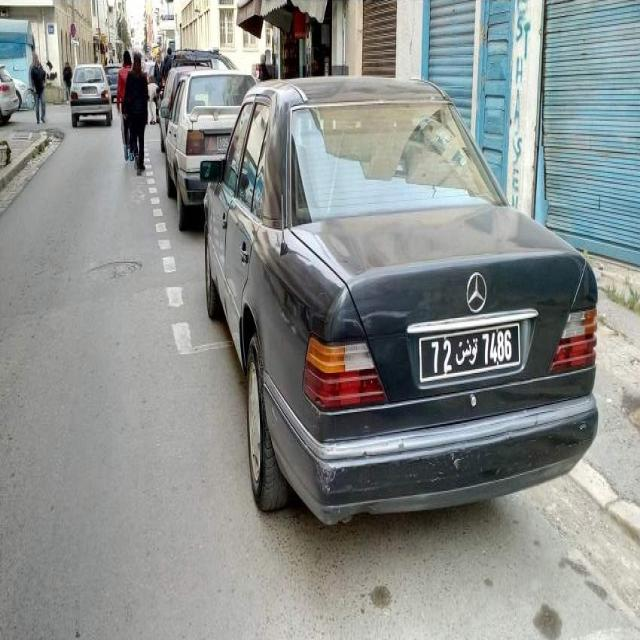licence plate: (419, 325, 521, 381)
